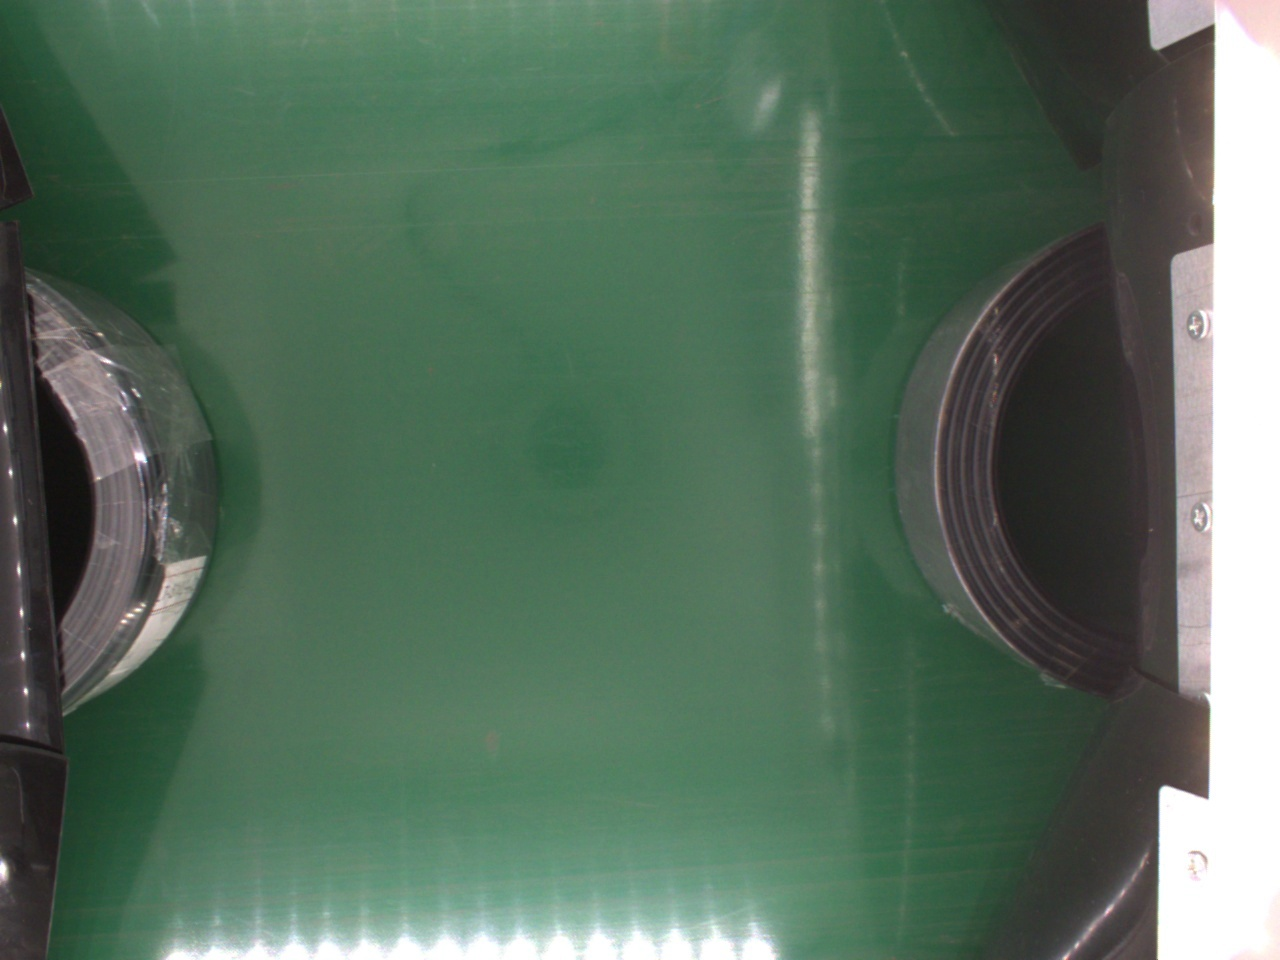black: (893, 225, 1132, 697), (26, 268, 218, 704)
